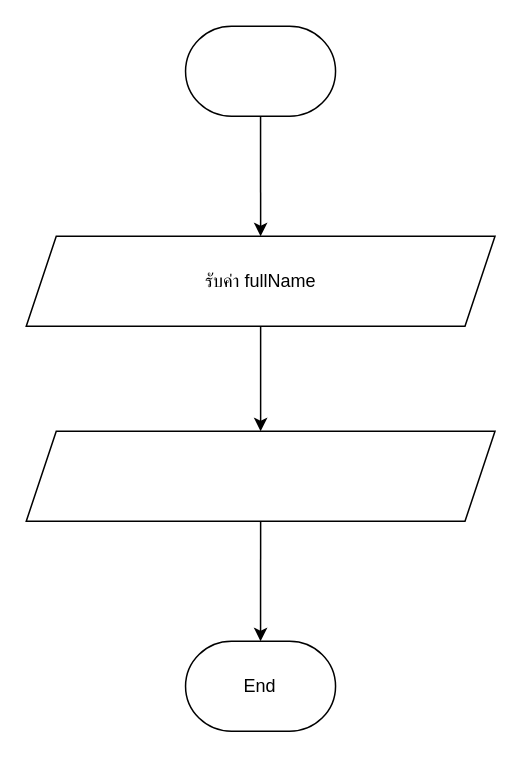
The diagram is 522 pixels wide and 758 high, and some of its shapes have lost their labels. The centre of each missing label's shape, as x and y in pixels:
"Start" belongs at pixel 260 70.
"แสดงผลค่า fullName" belongs at pixel 260 475.
